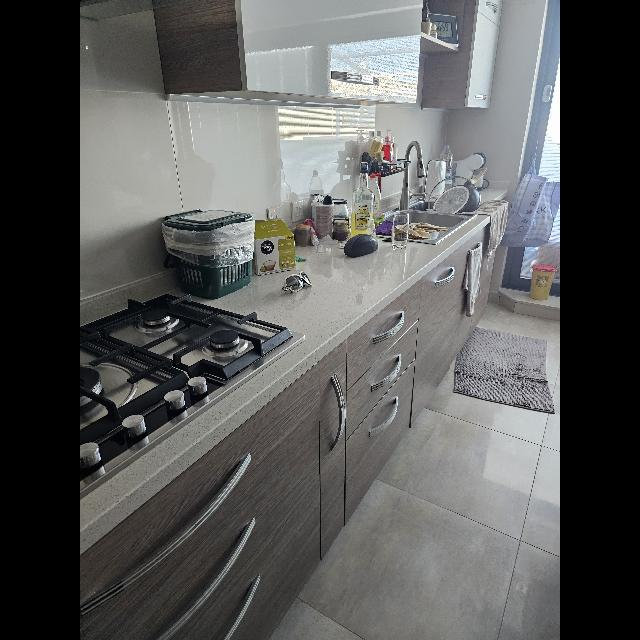Sunglasses: (282, 271, 312, 293)
